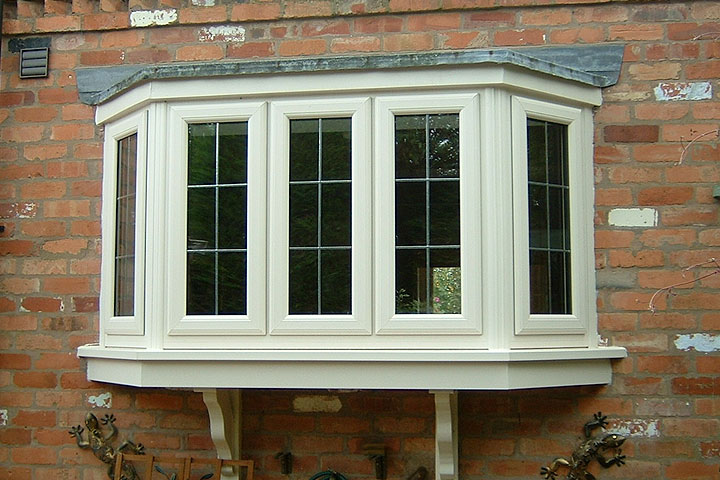B-Window: (65, 38, 633, 411)
